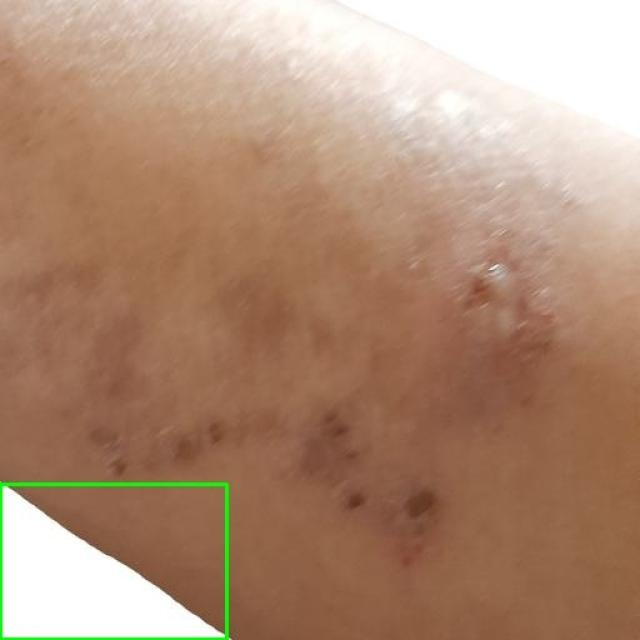Scabies: (0, 484, 226, 639)
